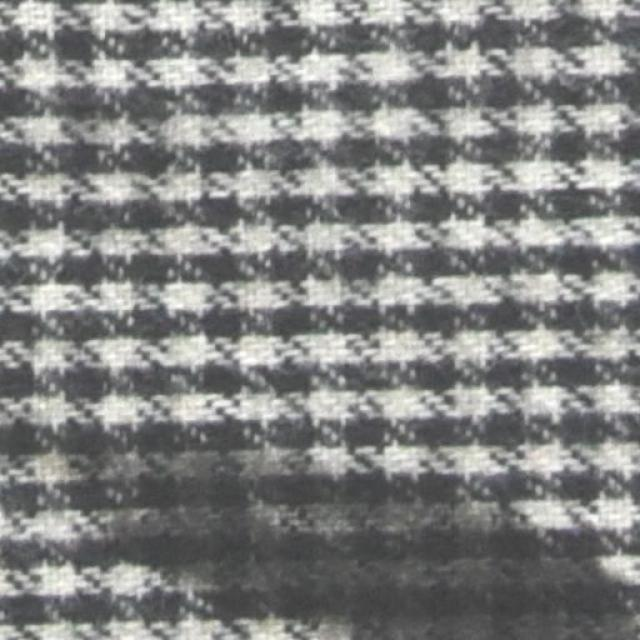Stain: (61, 407, 639, 639)
